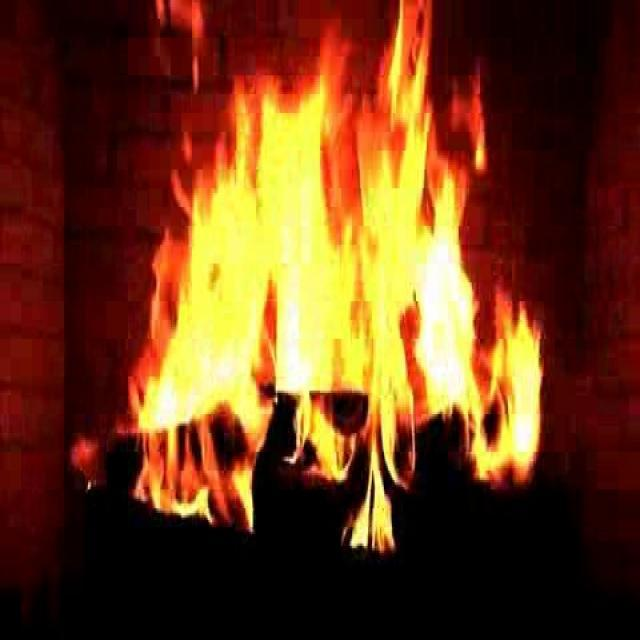Fire: (123, 82, 532, 536)
